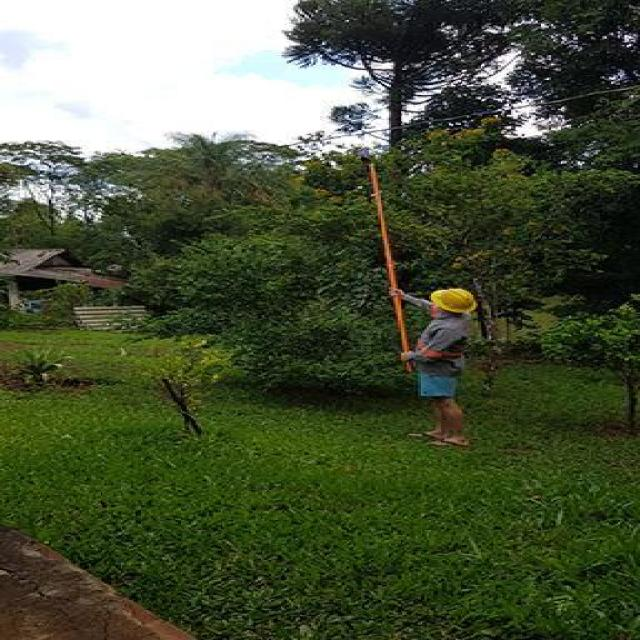hat: (429, 285, 478, 316)
